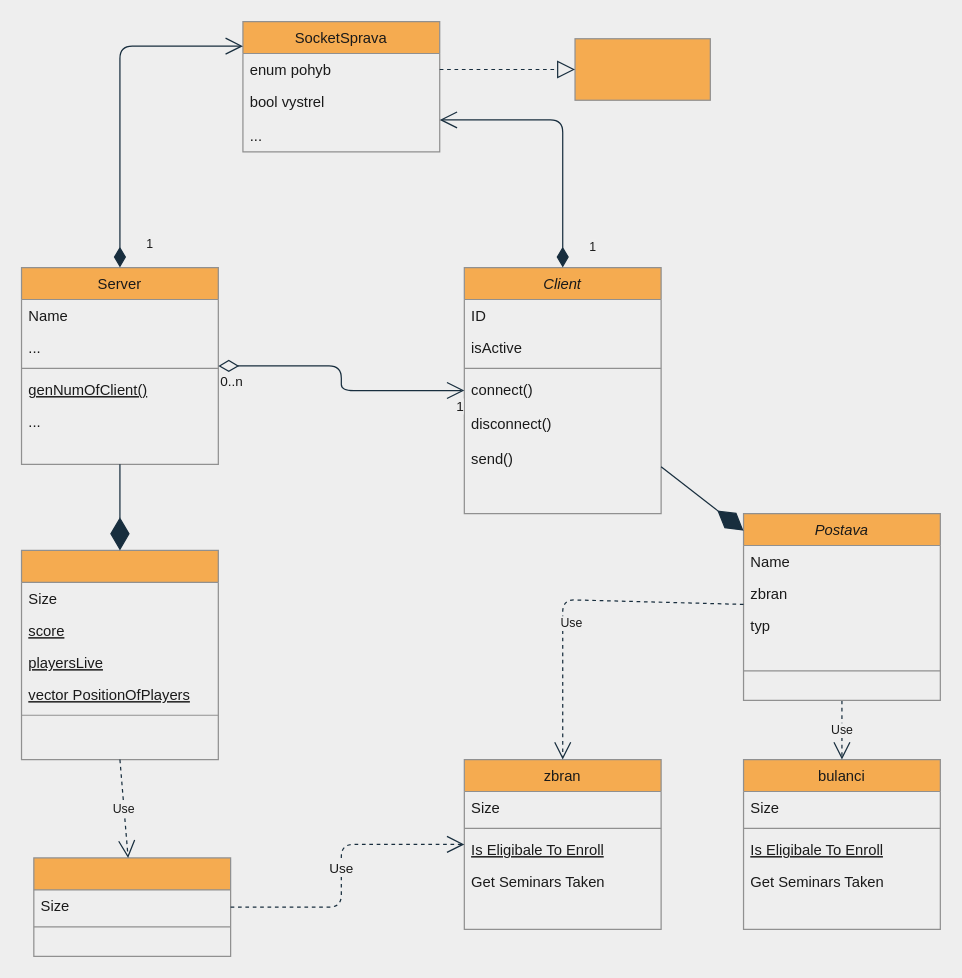
Image size: 962x978. Some labels were removed from this diagram. The shapes that lost their labels are listed below. From the top down, each one's box as (x1, y1, x2, y2) in pixels, then its label:
(574, 38, 710, 100): «enumeration» Pohyb
(20, 549, 218, 760): mapa
(33, 857, 231, 956): element
